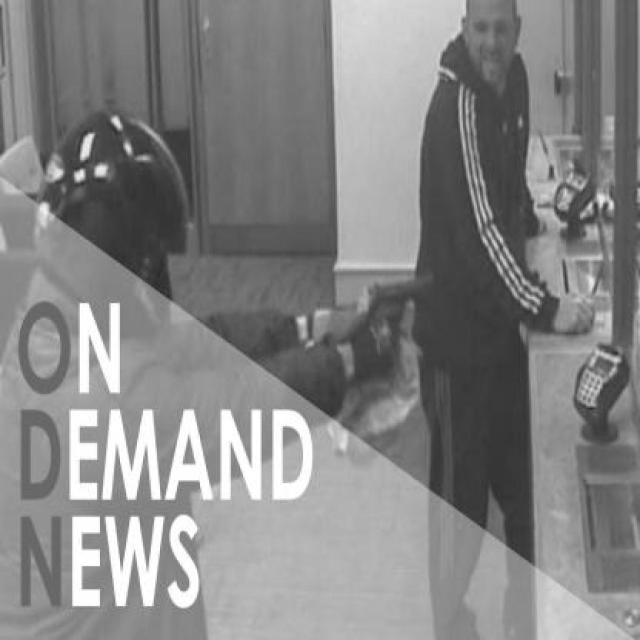weapon: (358, 272, 437, 365)
